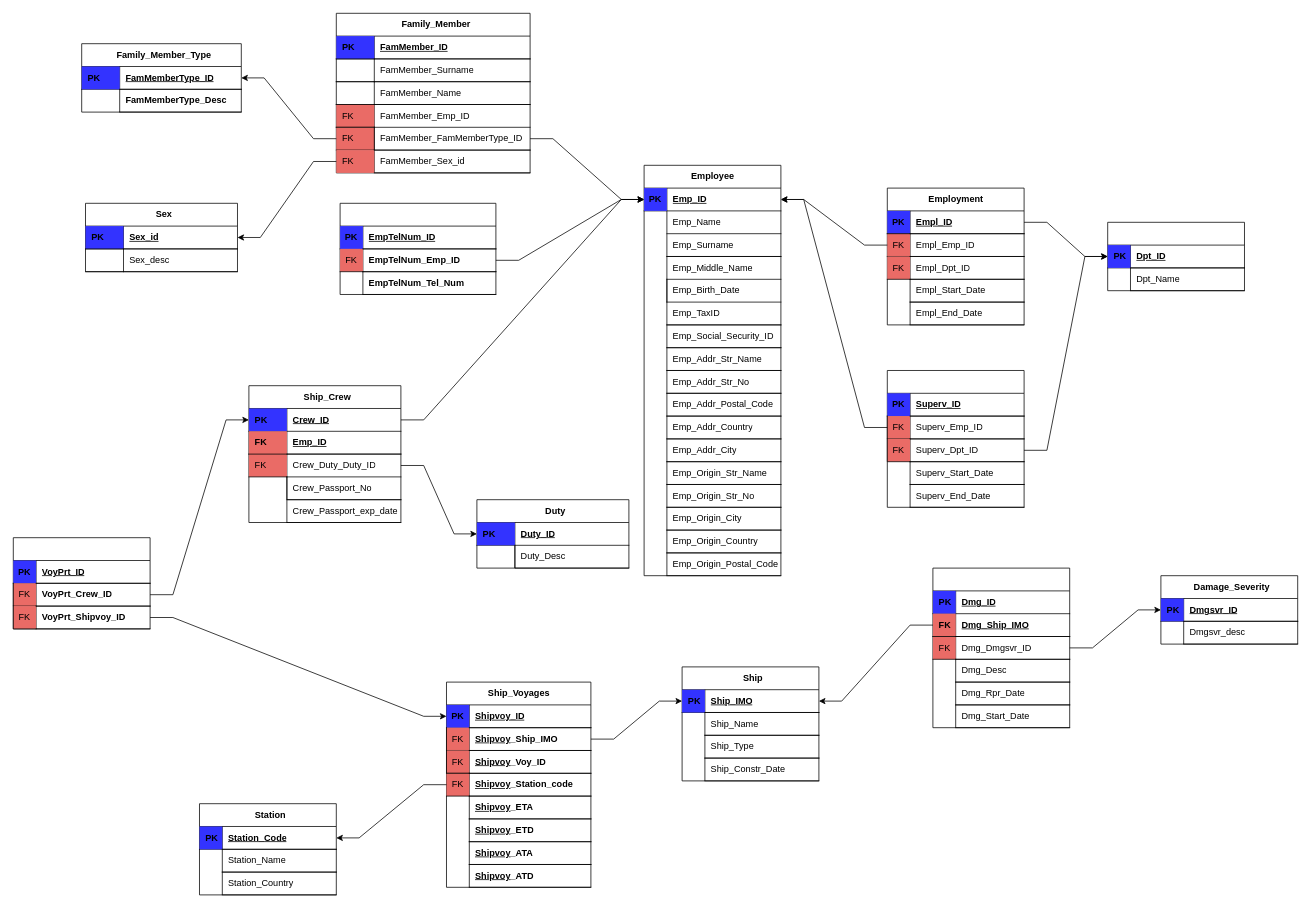
Some shapes in this 1311 by 908 pixel diagram are drawn without their labels. The shapes that lost their labels are listed below. From the top down, each one's box as (x1, y1, x2, y2) in pixels, then its label:
(339, 203, 496, 294): Employee_Telephone_Numbers
(1107, 222, 1244, 291): Department
(887, 370, 1024, 507): Supervisor
(13, 537, 150, 629): Voyage_Participation
(932, 567, 1070, 728): Damage
